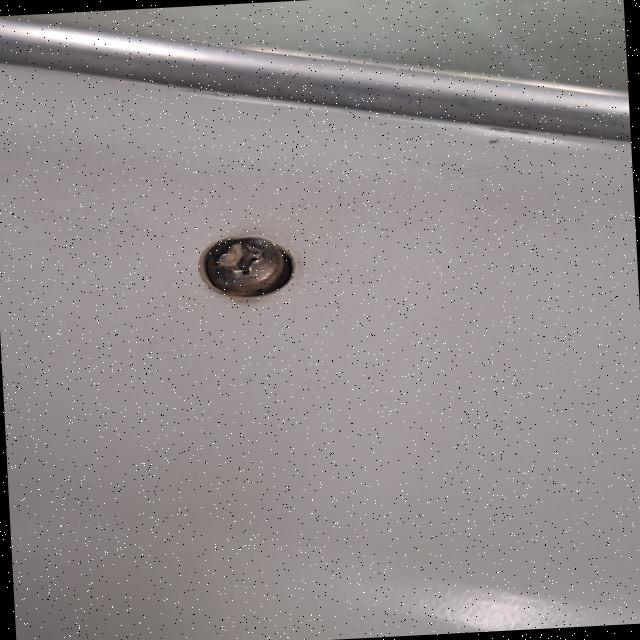Phillips: (193, 231, 290, 301)
